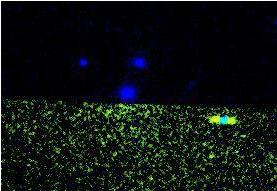star: (196, 140, 226, 170)
